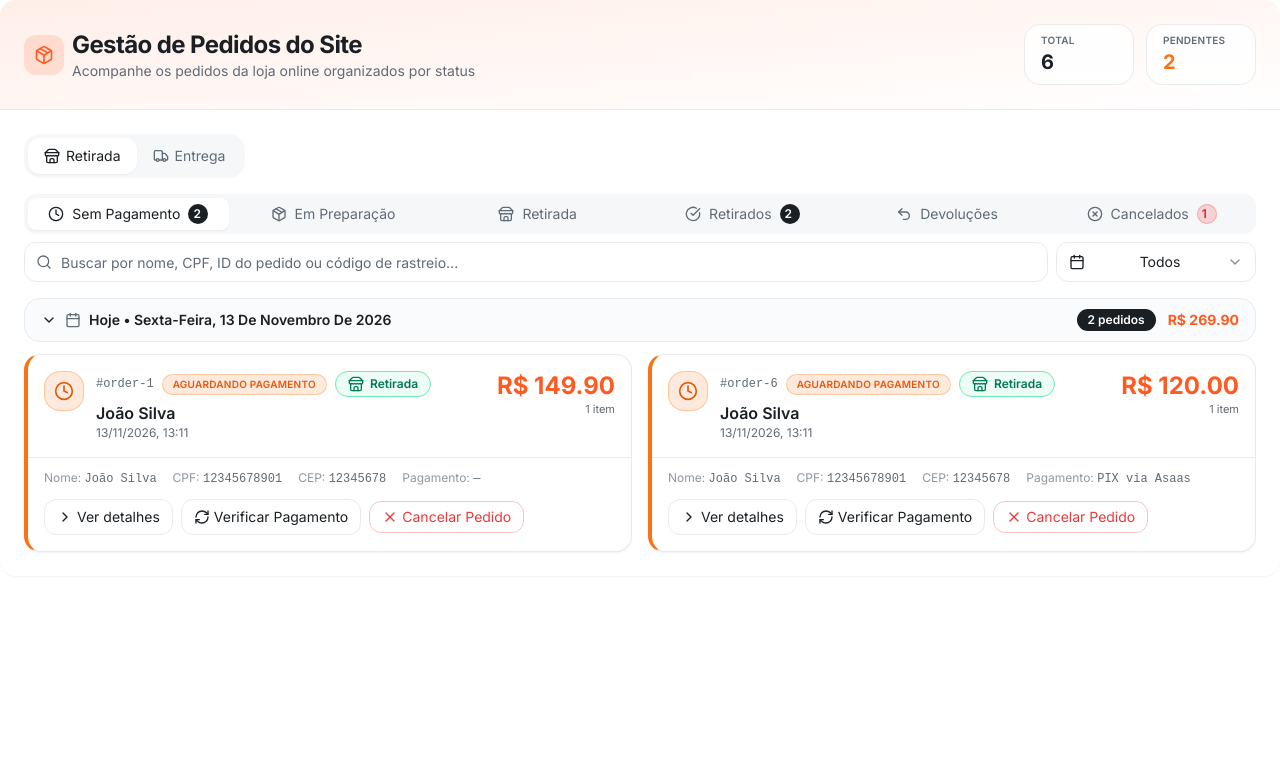
OrdersManagement — fluxo de cancelamento e estorno › diálogo de devolução para retirada com pagamento inclui opção de estorno
The image size is (1280, 770).
# Clica na aba "Retirados" (fluxo Retirada default)
Click the tab "Retirados 2" at (742,214), box [642,198,843,230]
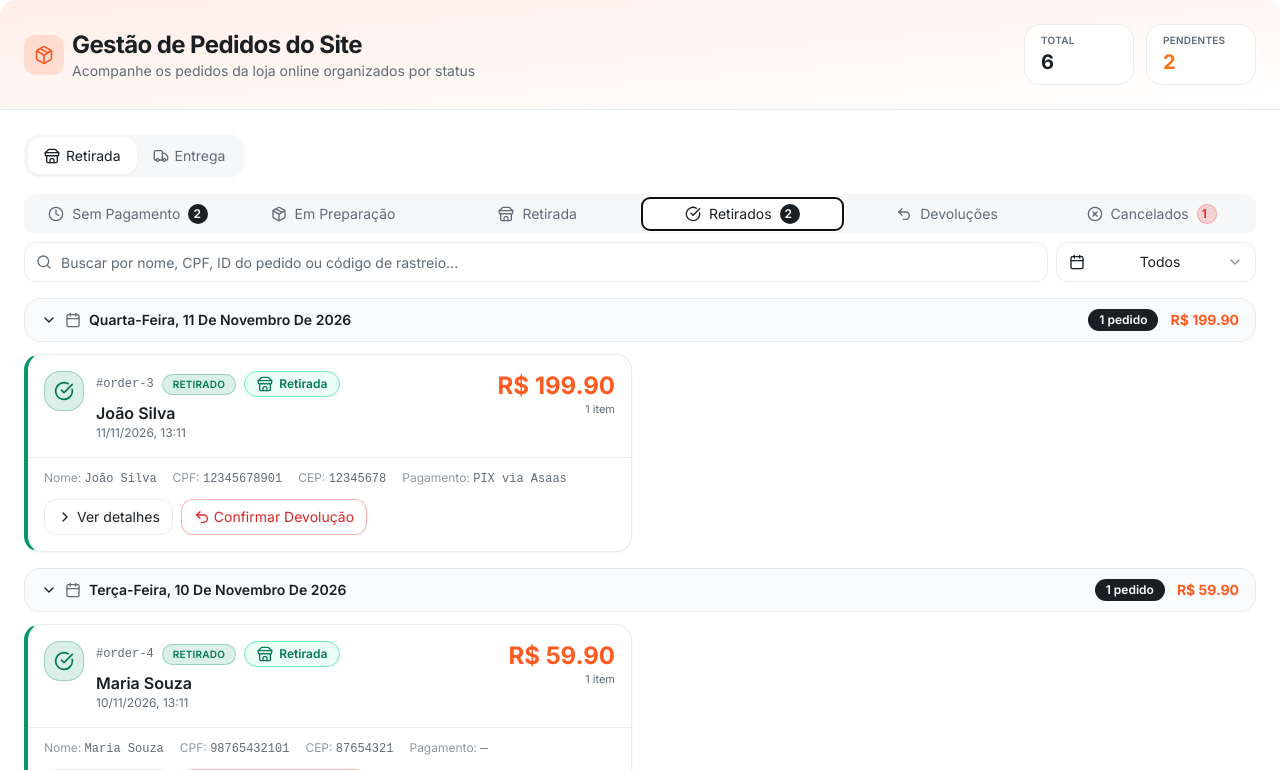
# Clica no primeiro Confirmar Devolução (order-3, com pagamento)
Click the button "Confirmar Devolução" below "12345678901" at (274,517), box [181,499,367,535]
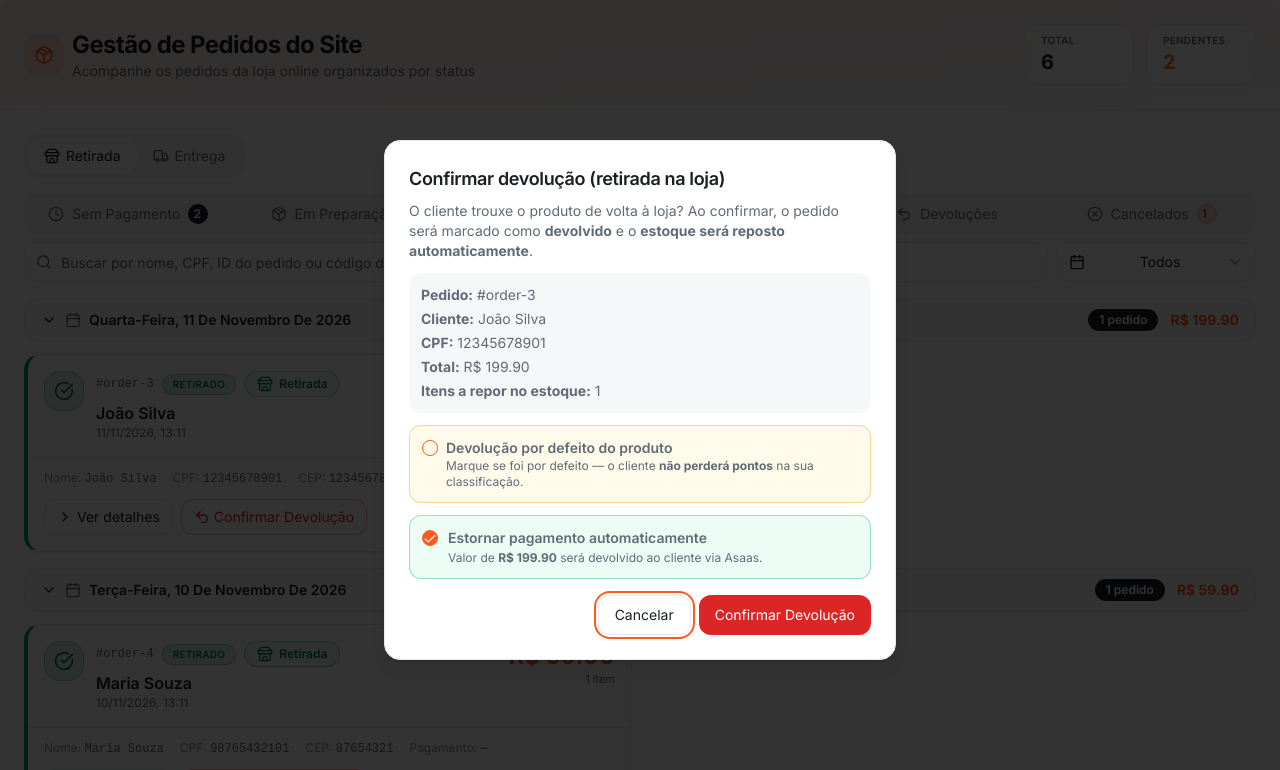
Check: the text "Estornar pagamento automaticamente" is shown, box [448,529,707,546]
